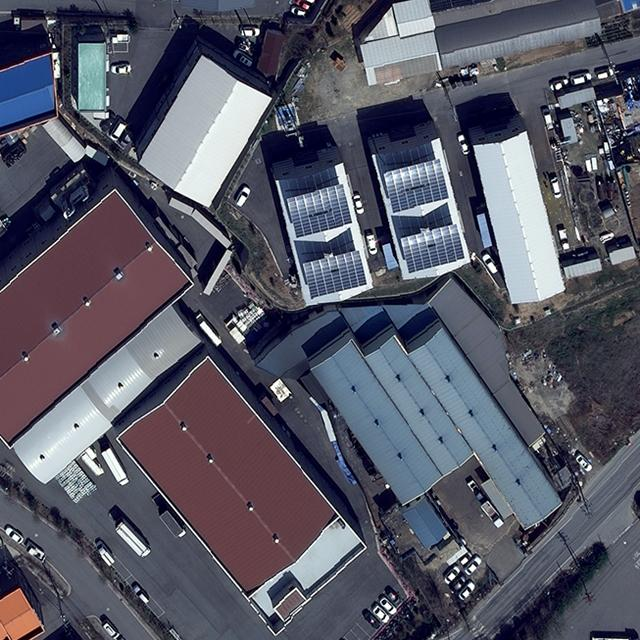panel: (287, 185, 355, 240), (382, 157, 448, 212), (400, 222, 465, 272), (302, 249, 368, 298)
